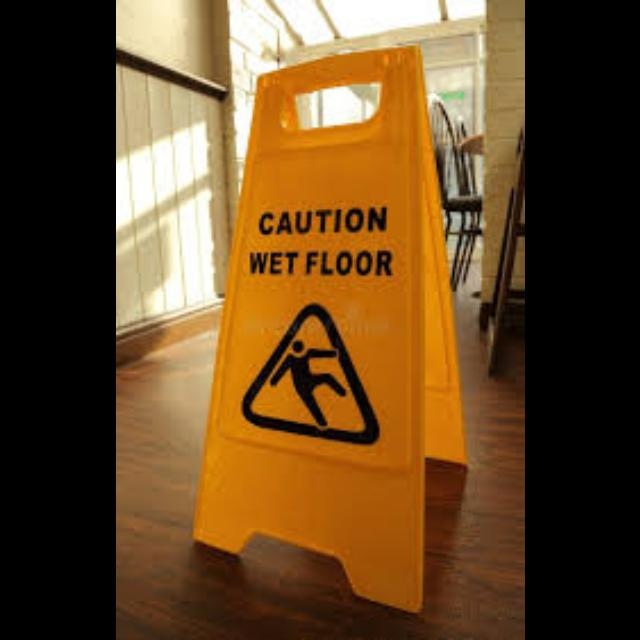tron truot: (192, 46, 463, 610)
